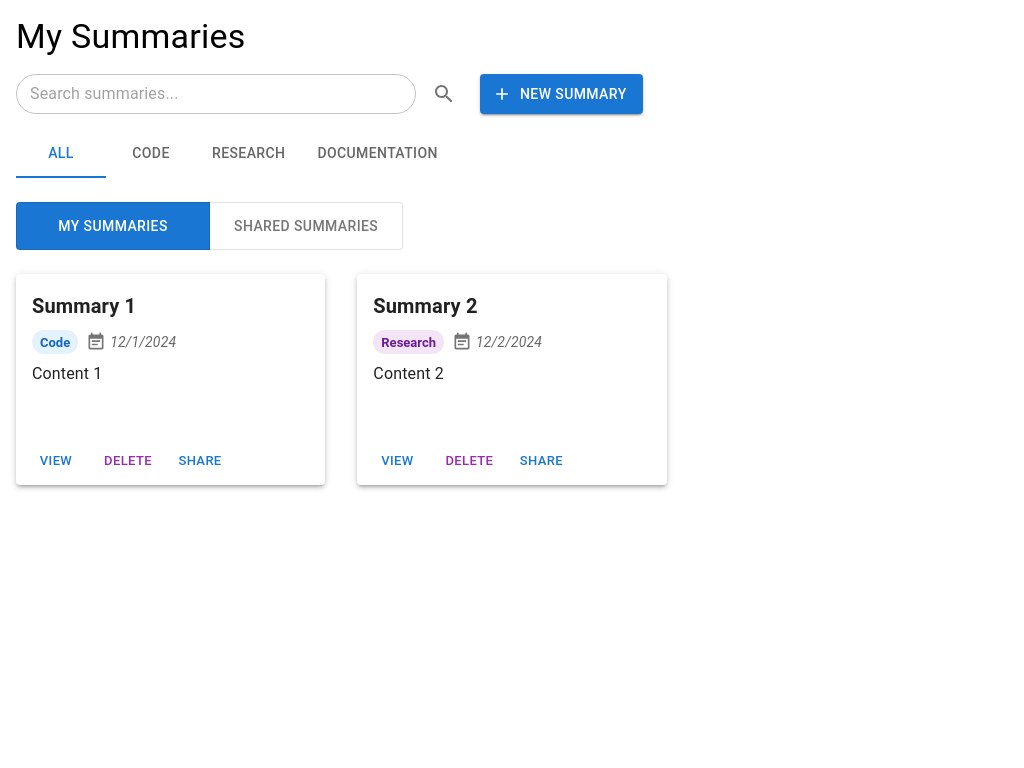
SummariesList Component › shows delete confirmation dialog when delete button is clicked
Expected: the heading "Summary 1" is shown, [32,294,136,318]
Note: Find and click the delete button
Click the button "Delete" below "Content 1": point(128, 462) [96,446,160,477]
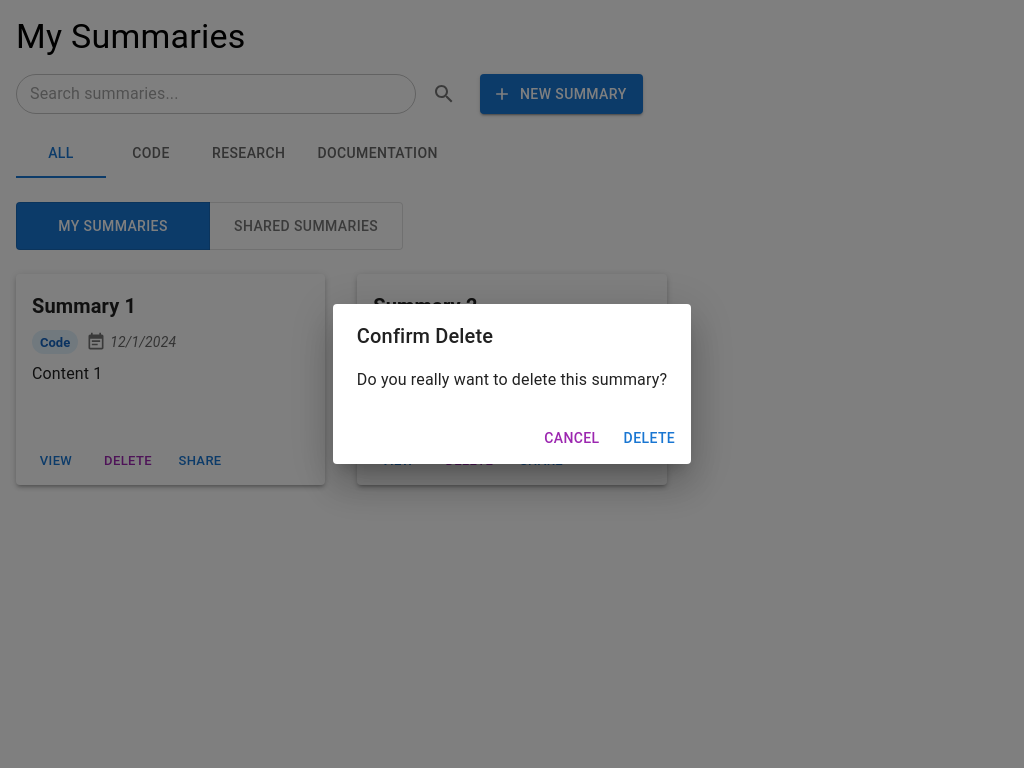
Result: the heading "Confirm Delete" is shown at [357,324,493,348]
Result: the text "Do you really want to delete this summary?" is shown at [357,368,667,392]
